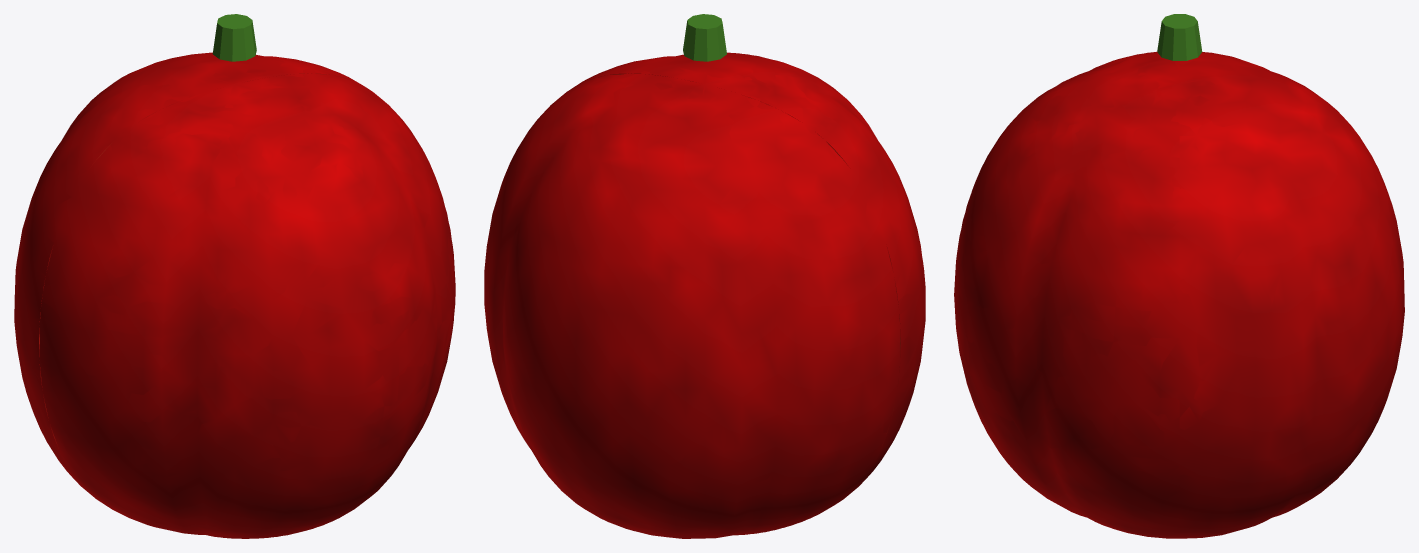
The model's file is poivron-rouge.glb.
3 renders of one model, left to right at view 1: azimuth 30°, elevation 25°; view 2: azimuth 150°, elevation 25°; view 3: azimuth 270°, elevation 25°, orthographic.
Visible parts, largest first — view 1: entier_peau, moitie_B_peau, moitie_A_peau, entier_extra0; view 2: entier_peau, moitie_A_peau, moitie_B_peau, entier_extra0; view 3: entier_peau, moitie_B_peau, moitie_A_peau, entier_extra0.
Part boxes in pixels (bbox=[...]): entier_peau: bbox=[14, 52, 455, 538]; moitie_B_peau: bbox=[39, 73, 455, 538]; moitie_A_peau: bbox=[14, 54, 351, 477]; entier_extra0: bbox=[212, 14, 256, 61]; entier_peau: bbox=[484, 53, 925, 538]; moitie_A_peau: bbox=[484, 73, 900, 538]; moitie_B_peau: bbox=[578, 52, 925, 490]; entier_extra0: bbox=[683, 14, 726, 61]; entier_peau: bbox=[954, 51, 1404, 538]; moitie_B_peau: bbox=[954, 52, 1179, 537]; moitie_A_peau: bbox=[1179, 52, 1403, 537]; entier_extra0: bbox=[1157, 14, 1202, 60].
Bounding box in the file's own units: 1.6 × 1.89 × 1.6.
